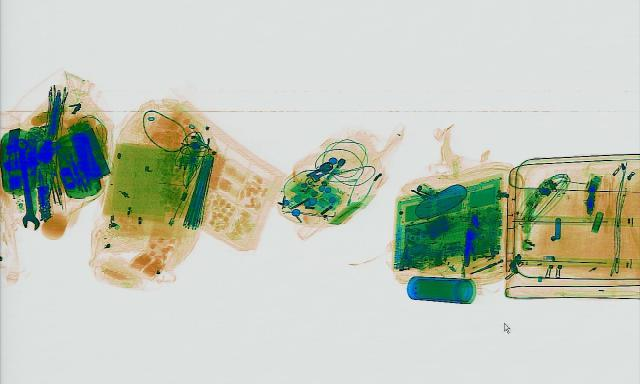Wrench: (8, 137, 42, 229)
